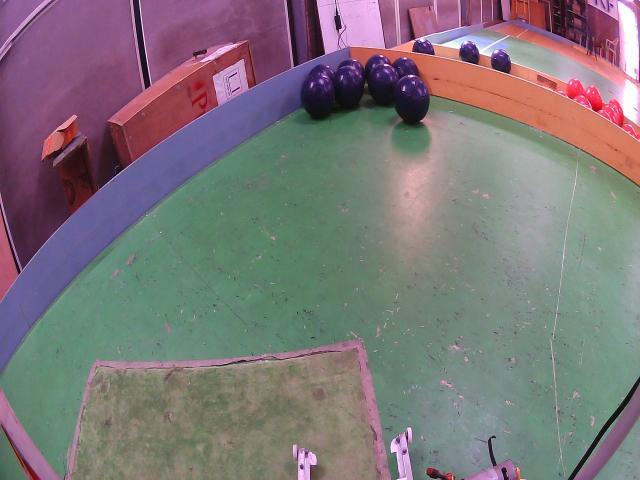kaalyya: (394, 75, 430, 123), (301, 73, 335, 118), (334, 65, 365, 108), (368, 63, 399, 105), (364, 53, 391, 80), (339, 58, 365, 80), (392, 57, 419, 78), (459, 40, 480, 65), (491, 48, 511, 73), (309, 63, 335, 82), (412, 38, 435, 55)
